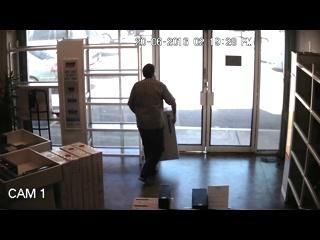shoplifting: (127, 64, 177, 186)
